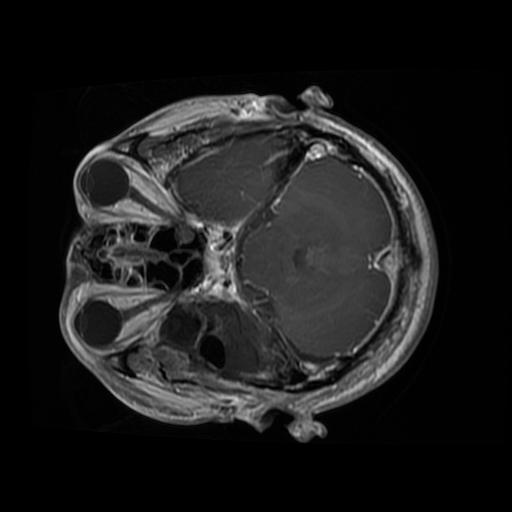glioma: (162, 300, 281, 386)
